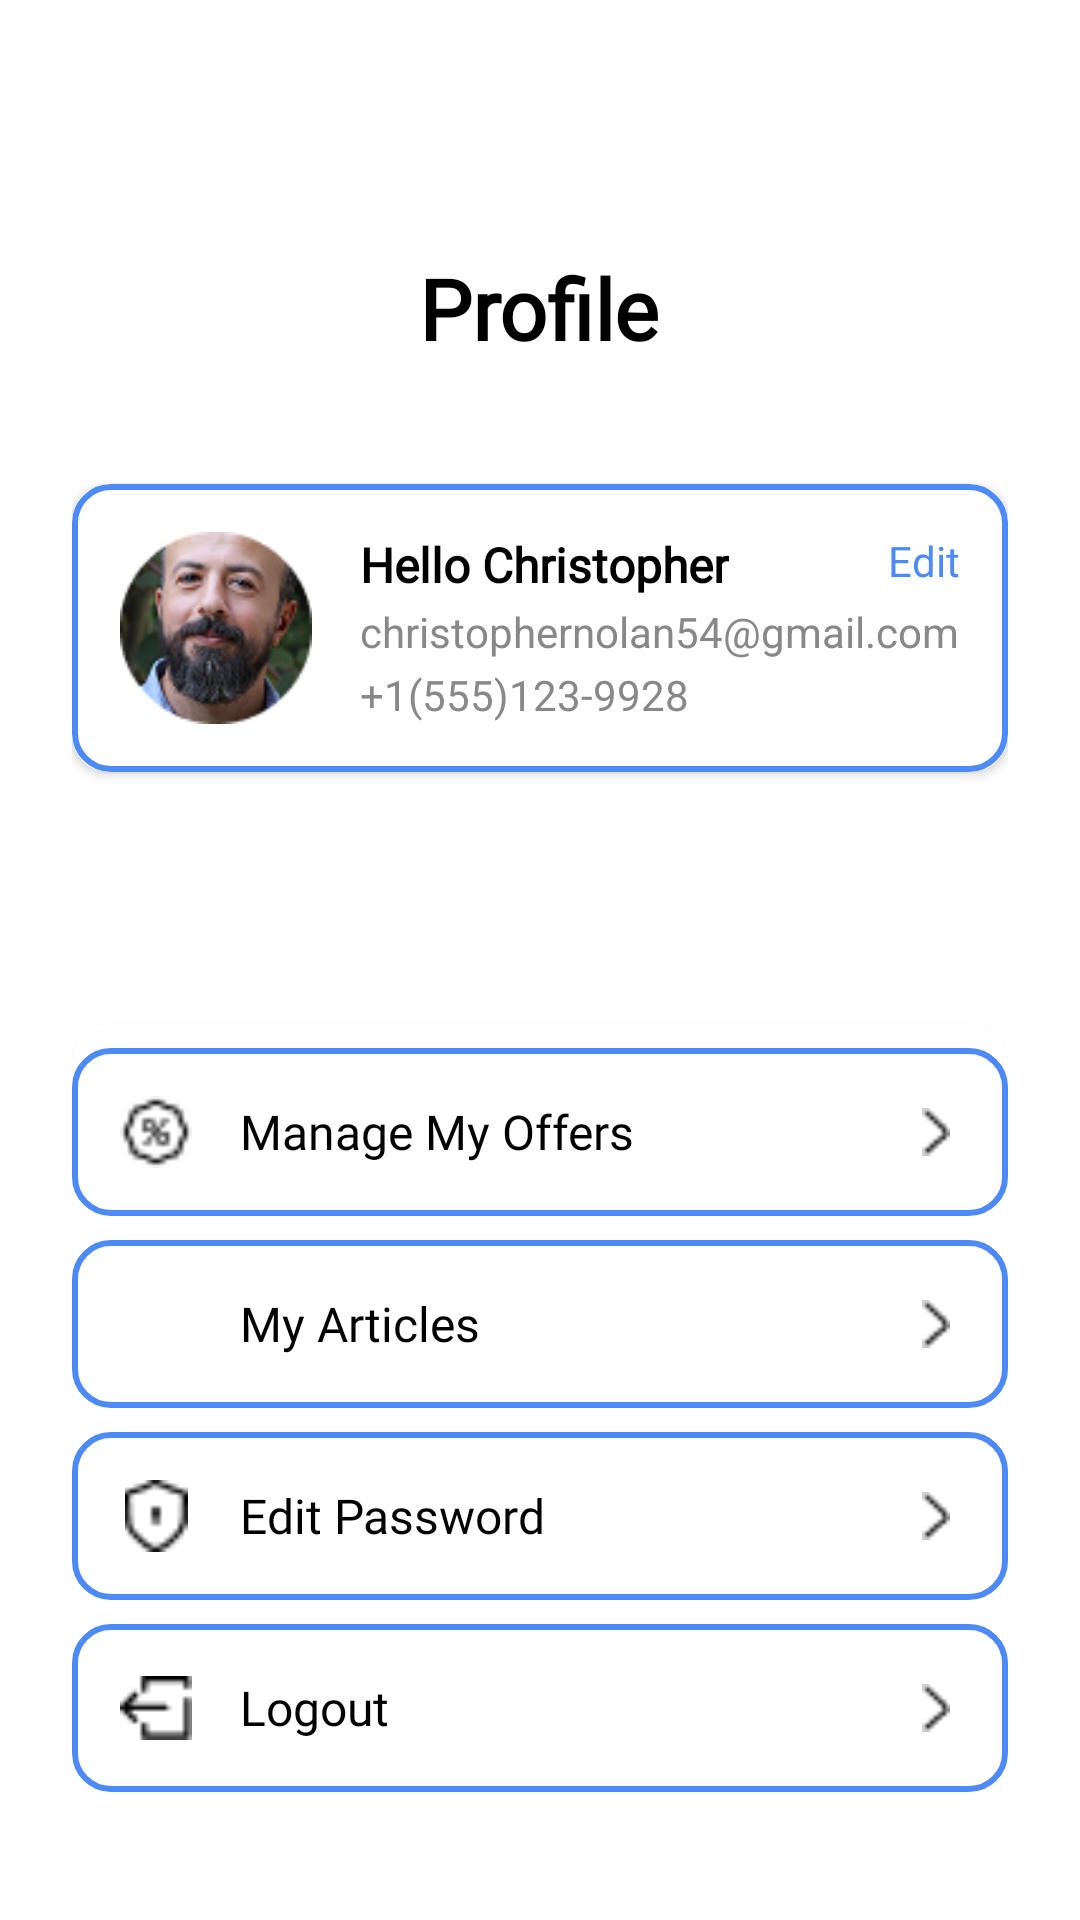

Named icons in this screenshot (1080px x 1920px) and their centers, (x=x, y=y):
flesh right: (x=936, y=1132), (x=936, y=1324), (x=936, y=1516), (x=936, y=1708)
security: (x=156, y=1516)
userr: (x=216, y=628)
